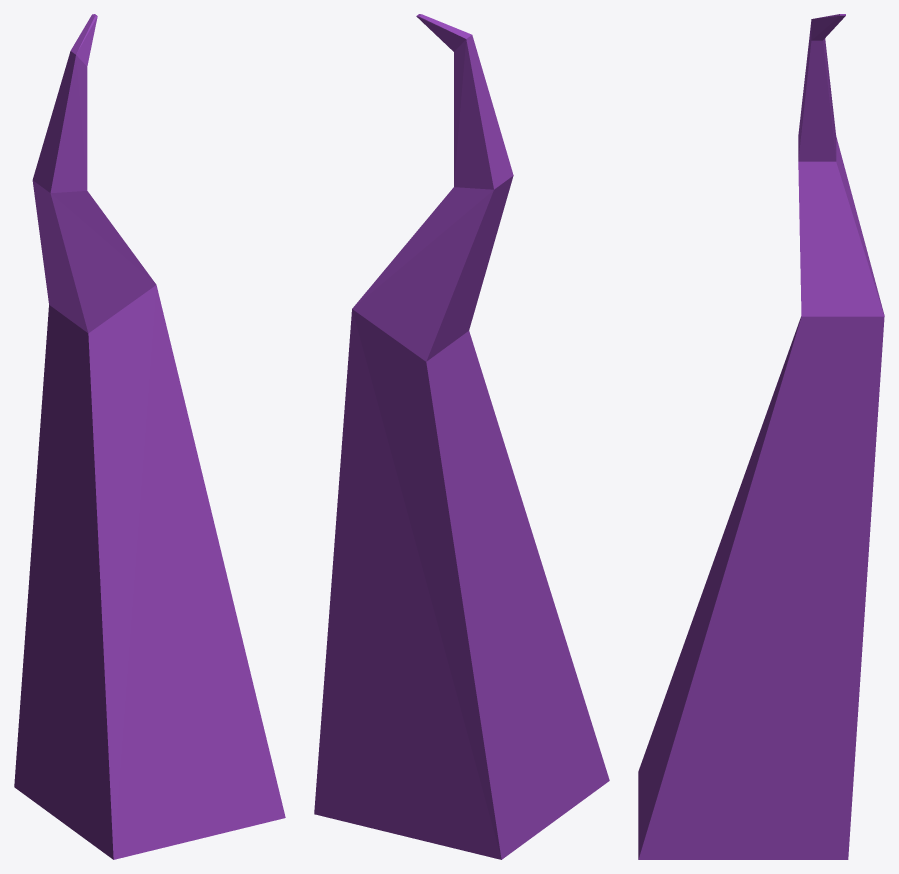
The model's file is MassiveBullet_Tentacle_1.dae.
The picture shows the model from 3 angles, left to right: view 1: azimuth 30°, elevation 25°; view 2: azimuth 150°, elevation 25°; view 3: azimuth 270°, elevation 25°; orthographic projection. The views are drawn at different scales.
Visible parts, largest first — view 1: Cube; view 2: Cube; view 3: Cube.
Boxes of the visible parts, x1,y1,x2,y2 form: Cube: [14, 14, 285, 859]; Cube: [314, 14, 609, 859]; Cube: [638, 14, 884, 859].
Size of the model in its own units: 2 by 2.35 by 8.38.
